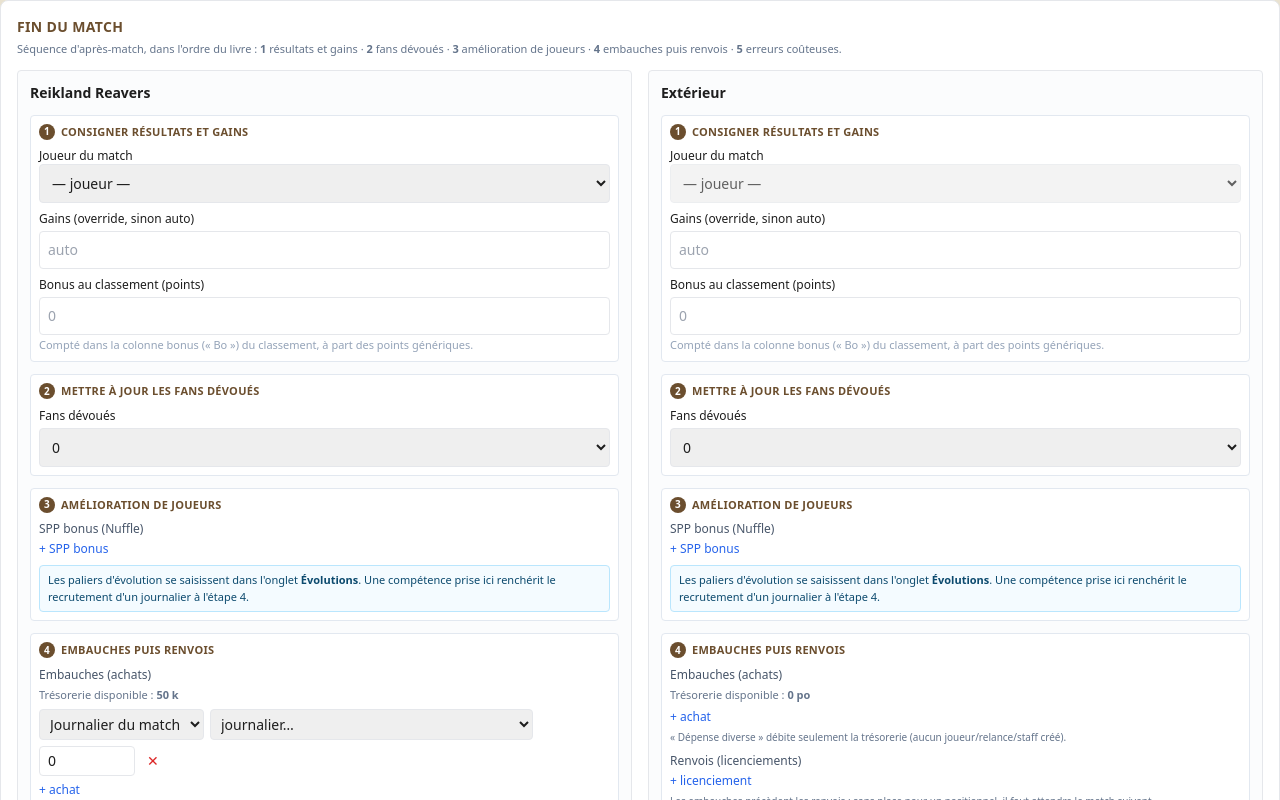
Test: PostMatchPanel — recrutement d'un journalier › propose les journaliers du match et pré-remplit leur prix
The width and height of the screenshot is (1280, 800).
Step 1. Select "N°12 Journalier 1 — Journalier (Trois-quarts)" in the dropdown with test id "purchases-home-journeyman-0" → point(372, 724), box [210, 708, 533, 740]
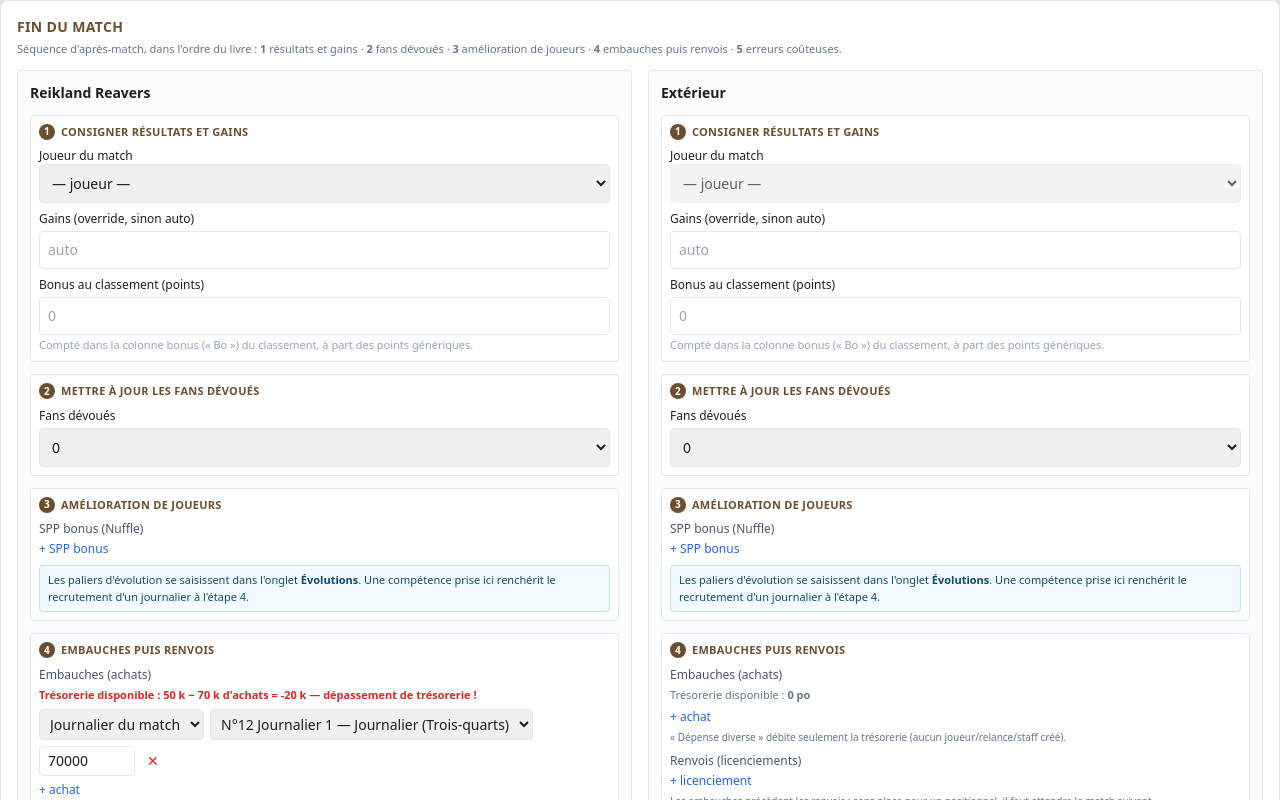
Expected: the number field showing "70000" is shown, [39, 746, 135, 776]
